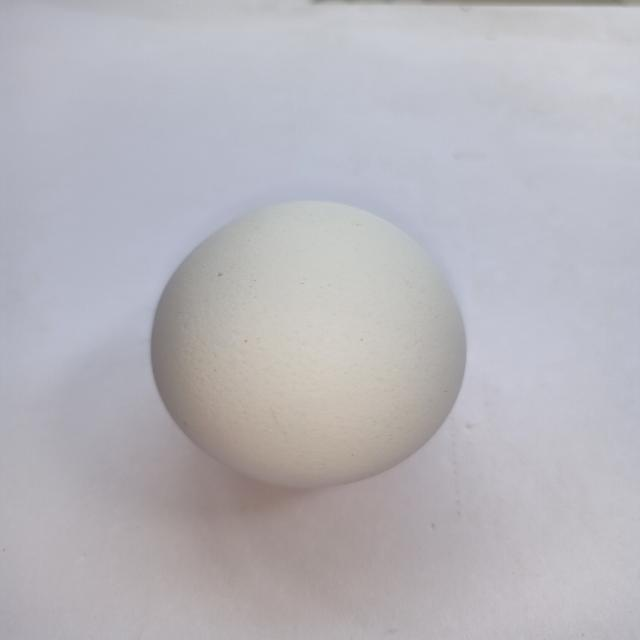Egg: (114, 175, 505, 528)
